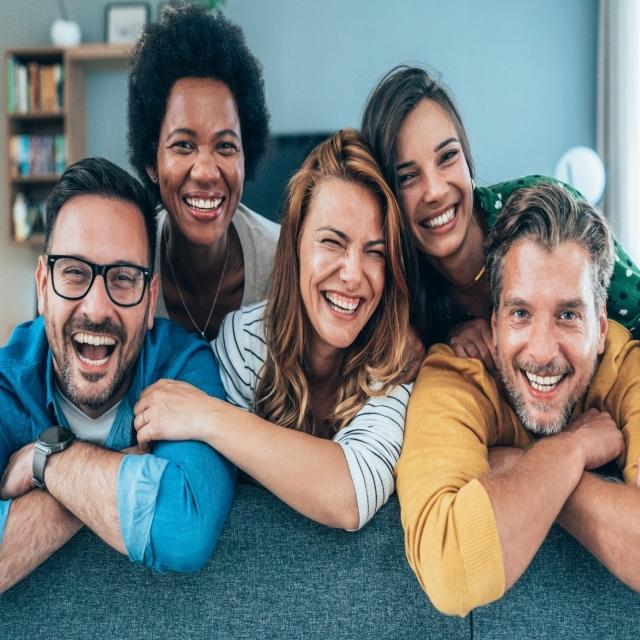without_helmet: (30, 137, 162, 435), (483, 181, 615, 442), (125, 11, 276, 238), (273, 114, 397, 359), (356, 71, 478, 264)
